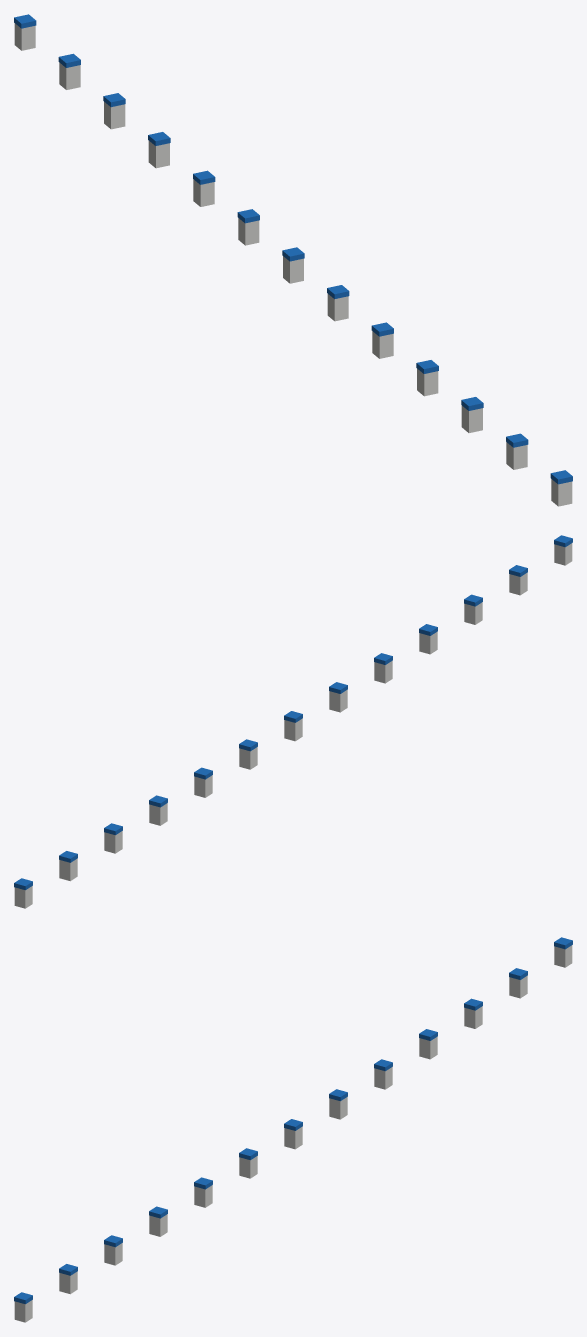
File: pb_bluebollards.glb
The picture shows the model from 3 angles, top to bottom: view 1: azimuth 30°, elevation 25°; view 2: azimuth 150°, elevation 25°; view 3: azimuth 330°, elevation 25°; orthographic projection. The views are drawn at different scales.
Parts seen in each view (by area): view 1: pb_bluebollards_lod0; view 2: pb_bluebollards_lod0; view 3: pb_bluebollards_lod0.
Part boxes in pixels (left/top/right/bottom): pb_bluebollards_lod0: left=14, top=14, right=572, bottom=506; pb_bluebollards_lod0: left=14, top=535, right=572, bottom=908; pb_bluebollards_lod0: left=14, top=937, right=572, bottom=1322.
Size of what is drawn, in the model's own units: 1.85 by 0.8915 by 26.75.
